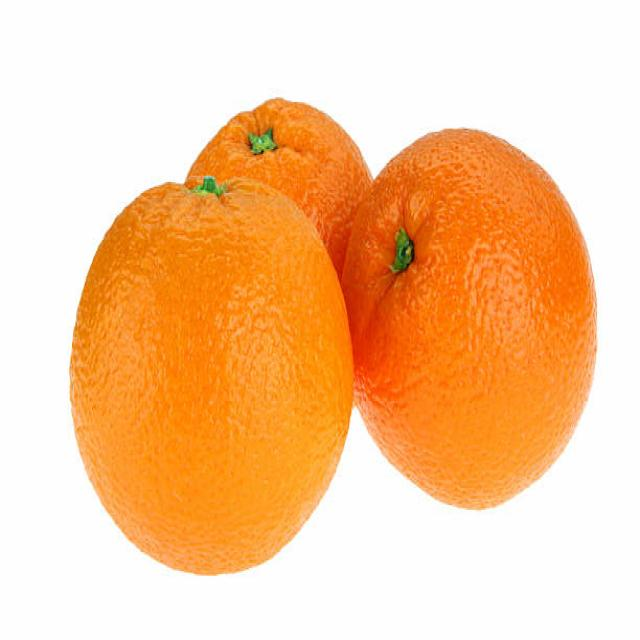Ripe: (68, 171, 356, 584), (355, 122, 602, 519)
